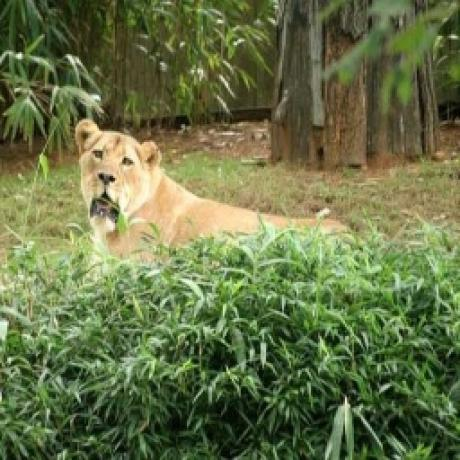Lion: (73, 116, 356, 256)
